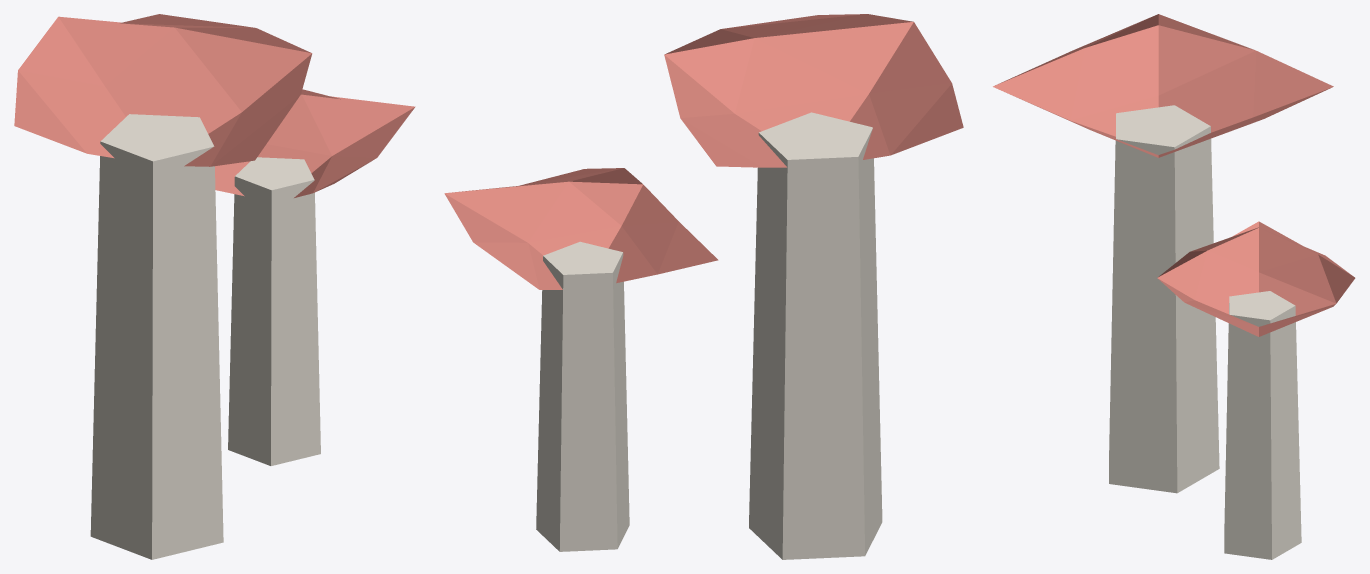
Rendered from mushroom_v12.glb.
The picture shows the model from 3 angles, left to right: view 1: azimuth 30°, elevation 25°; view 2: azimuth 150°, elevation 25°; view 3: azimuth 270°, elevation 25°; orthographic projection. The views are drawn at different scales.
Visible parts, largest first — view 1: lod0; view 2: lod0; view 3: lod0.
Boxes of the visible parts, x1=… form: lod0: x1=14, y1=14, x2=415, y2=559; lod0: x1=444, y1=14, x2=963, y2=559; lod0: x1=993, y1=14, x2=1355, y2=559.
Size of what is drawn, in the model's own units: 0.3168 by 0.3405 by 0.2498.
